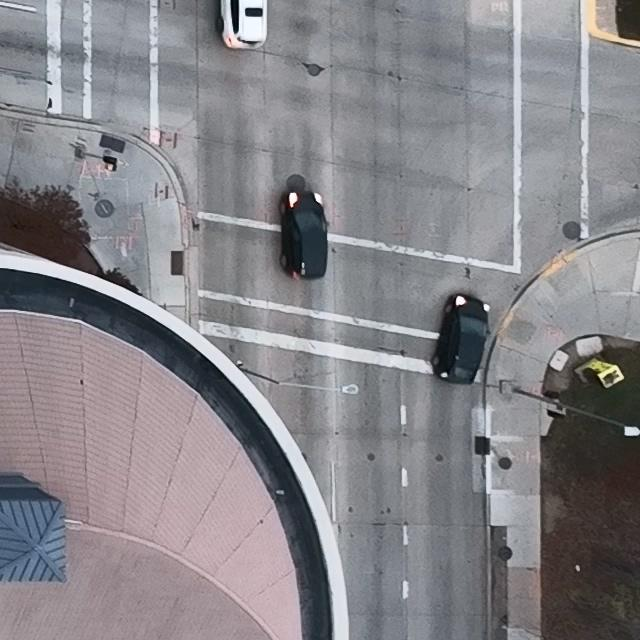car: (432, 294, 490, 386), (279, 192, 329, 280), (215, 0, 267, 49)
